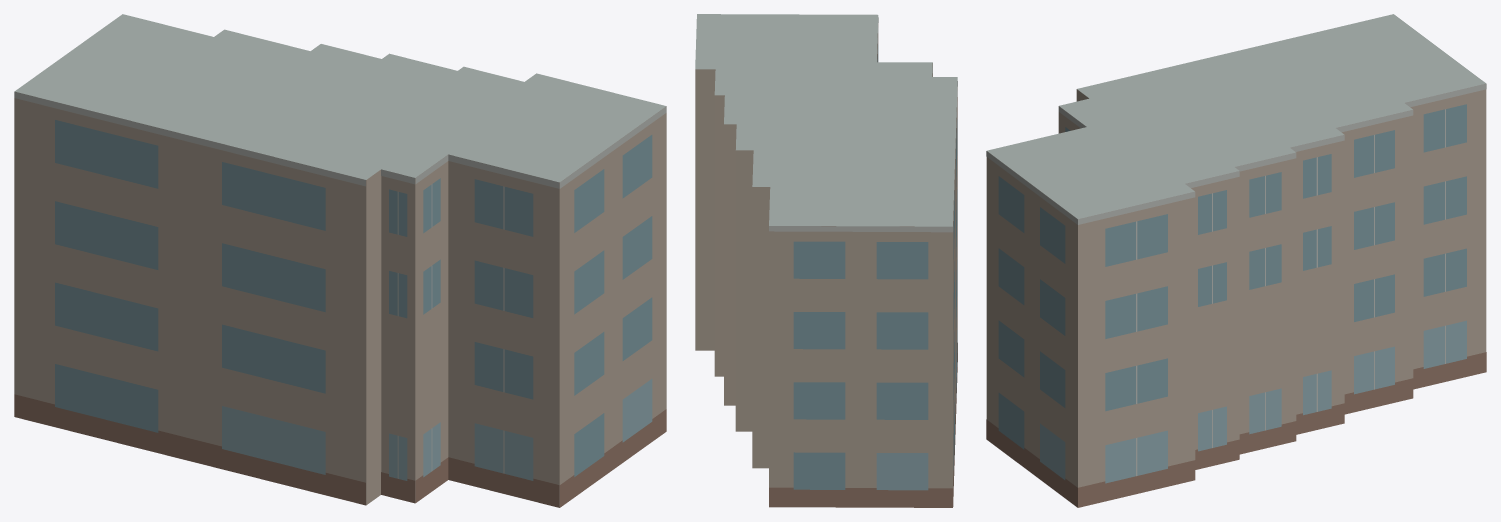
File: survey-upis-32918648.glb
The picture shows the model from 3 angles, left to right: view 1: azimuth 30°, elevation 25°; view 2: azimuth 150°, elevation 25°; view 3: azimuth 270°, elevation 25°; orthographic projection. The views are drawn at different scales.
Parts seen in each view (by area): view 1: survey-upis-32918648.tmp; view 2: survey-upis-32918648.tmp; view 3: survey-upis-32918648.tmp.
Boxes of the visible parts, x1,y1,x2,y2 form: survey-upis-32918648.tmp: (14,14,666,507); survey-upis-32918648.tmp: (695,14,957,507); survey-upis-32918648.tmp: (986,14,1486,507).
Size of the model in its own units: 18.61 by 12.2 by 19.16.
